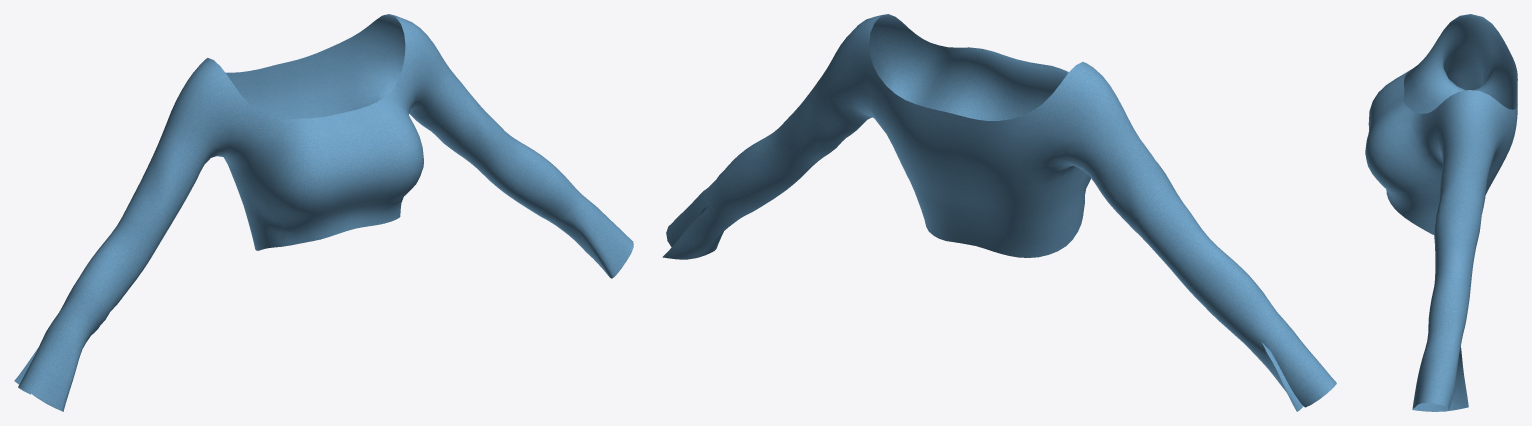
Rendered from belly_button.glb.
3 views of the same model, side by side, from view 1: azimuth 30°, elevation 25°; view 2: azimuth 150°, elevation 25°; view 3: azimuth 270°, elevation 25° (orthographic). The views are drawn at different scales.
Visible parts, largest first — view 1: BellyButtonLongSleeveShirt; view 2: BellyButtonLongSleeveShirt; view 3: BellyButtonLongSleeveShirt.
Part boxes in pixels (left/top/right/bottom): BellyButtonLongSleeveShirt: left=14, top=14, right=633, bottom=411; BellyButtonLongSleeveShirt: left=662, top=14, right=1336, bottom=411; BellyButtonLongSleeveShirt: left=1365, top=14, right=1517, bottom=411.
Bounding box in the file's own units: 10.63 × 4.72 × 2.68.
1 material, 1 textured.
